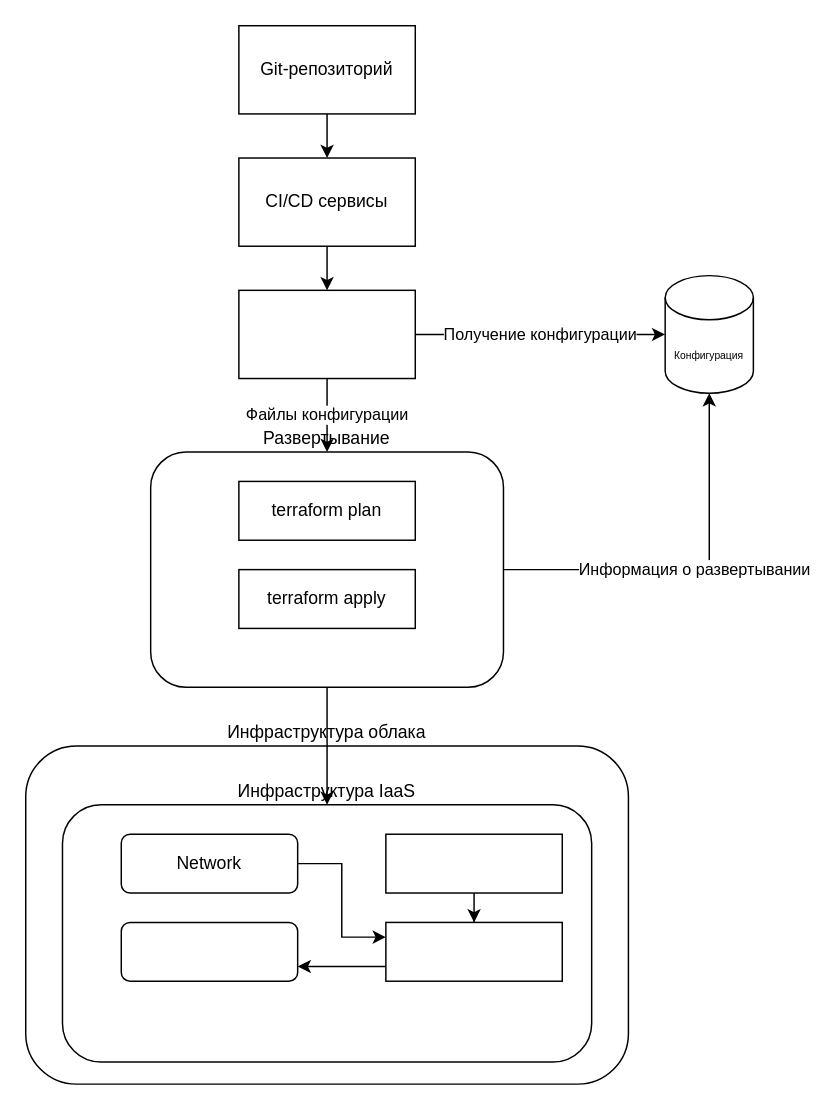
The diagram is 836 pixels wide and 1110 high, and some of its shapes have lost their labels. Each missing label, with the centre of its shape:
Disk: (x=473, y=863)
IP (Local/Public): (x=209, y=951)
VM: (x=473, y=951)
Сборка: (x=326, y=334)
